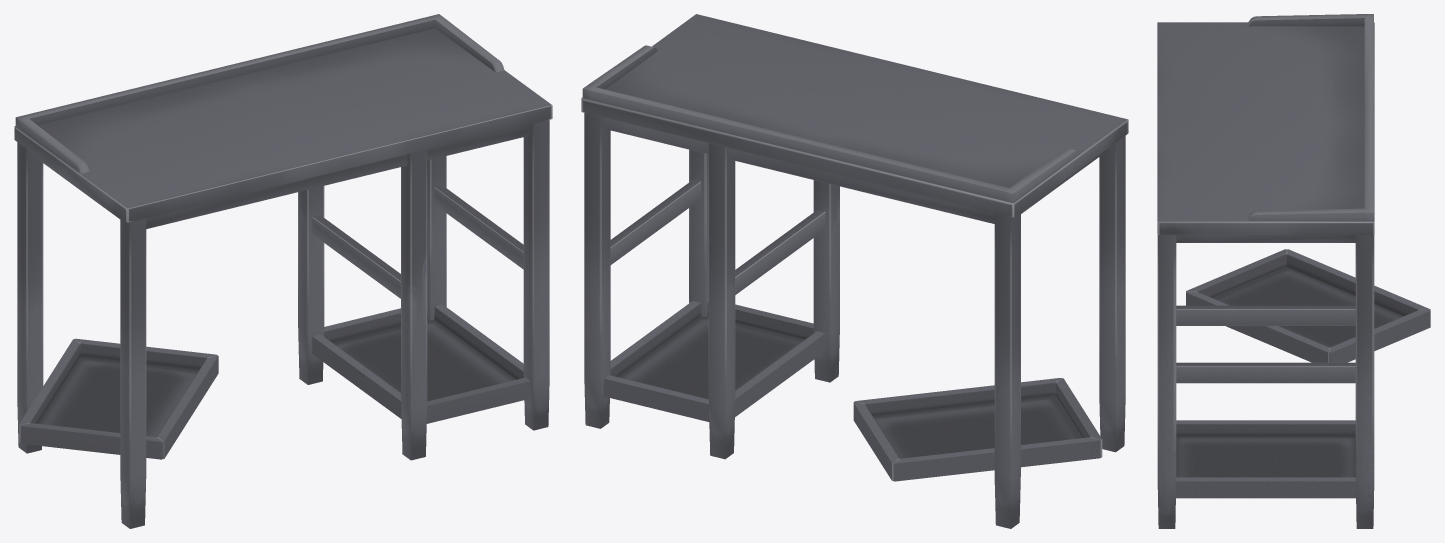
The model's file is Desk.gltf.
The picture shows the model from 3 angles, left to right: view 1: azimuth 30°, elevation 25°; view 2: azimuth 150°, elevation 25°; view 3: azimuth 270°, elevation 25°; orthographic projection. The views are drawn at different scales.
Parts seen in each view (by area): view 1: Desk; view 2: Desk; view 3: Desk.
Boxes of the visible parts, x1,y1,x2,y2 form: Desk: [14, 14, 552, 528]; Desk: [581, 14, 1128, 528]; Desk: [1157, 14, 1430, 528].
Size of the model in its own units: 1.11 by 0.7497 by 0.5844.
Materials: 1 (1 with a texture image).
